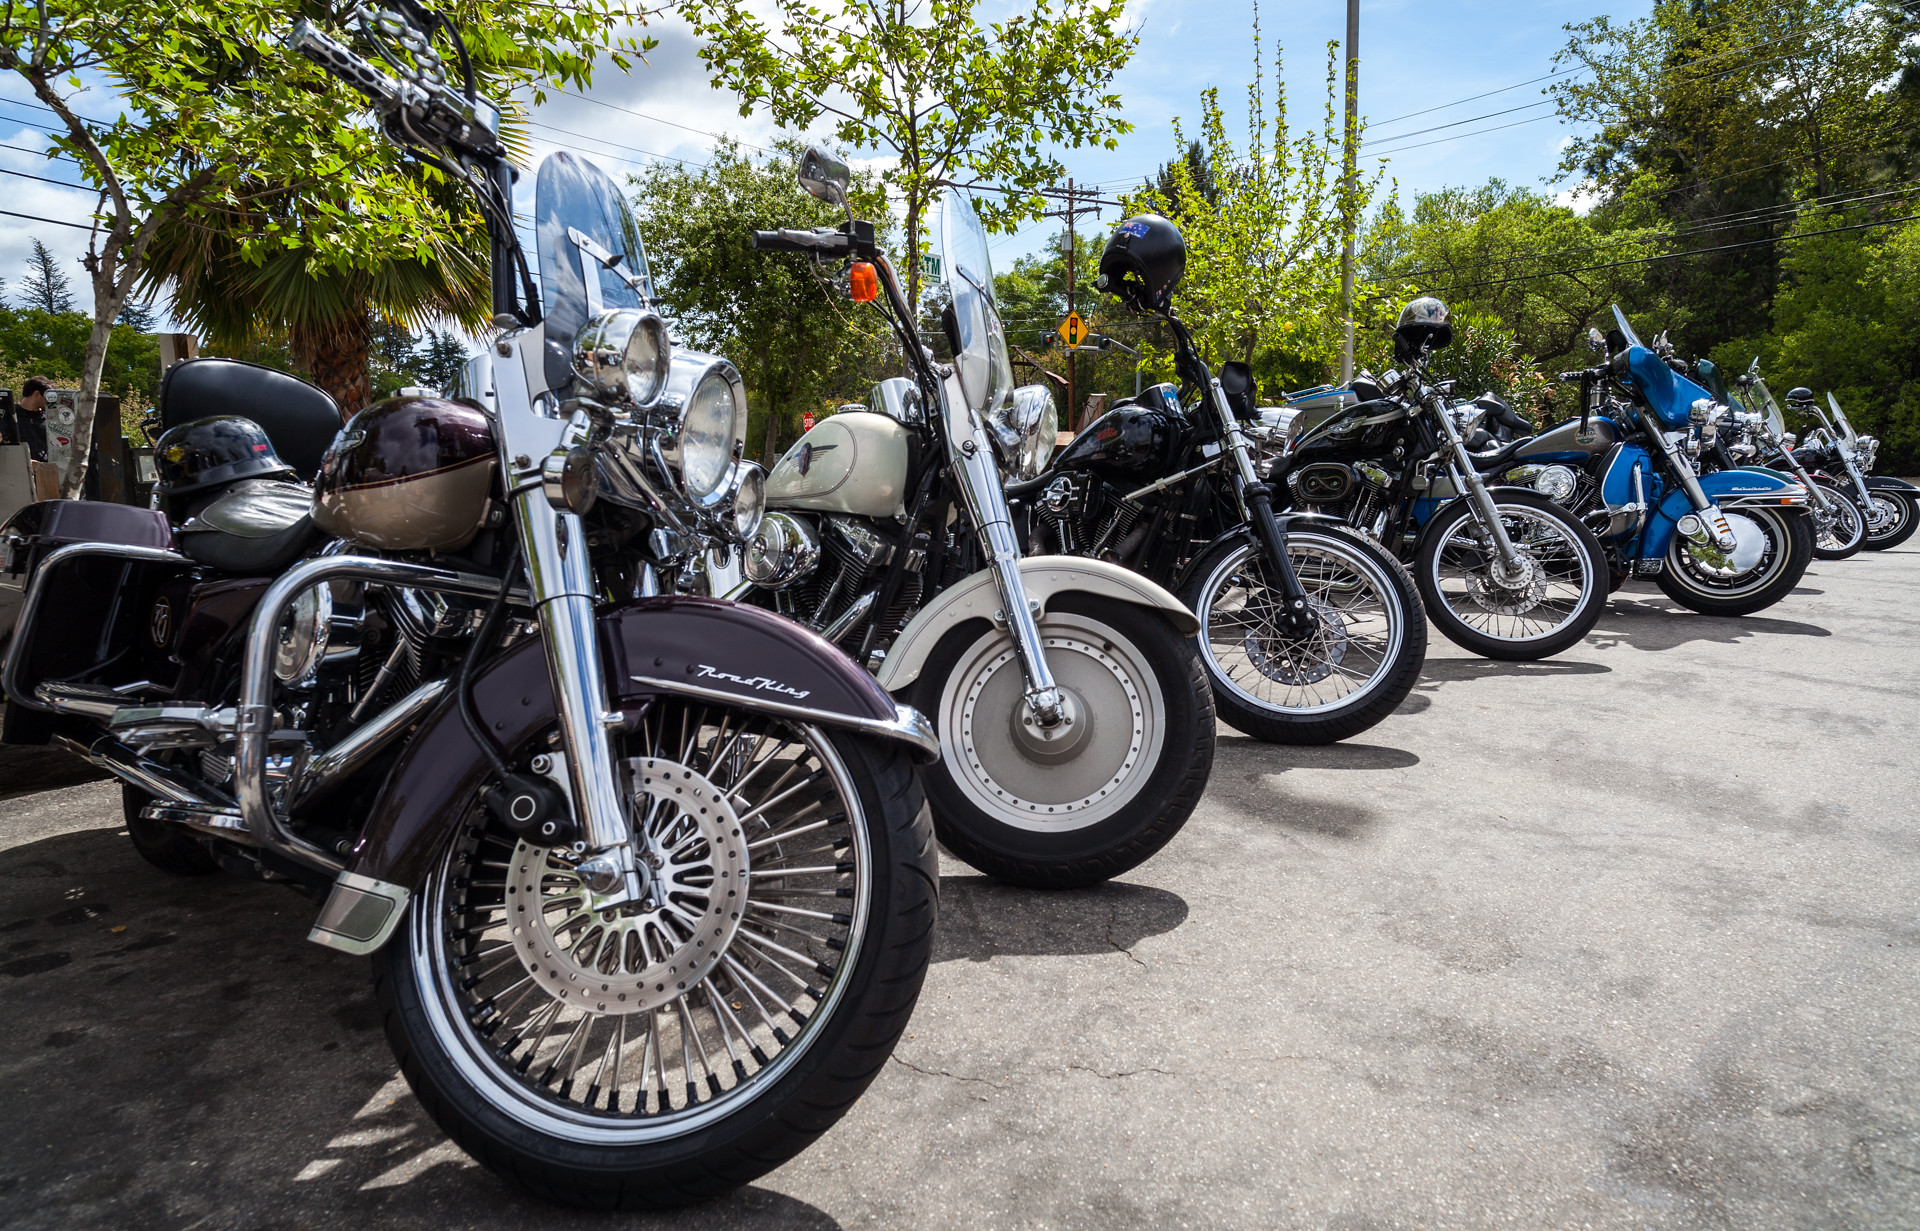motor bike: (57, 38, 926, 1172), (1476, 333, 1816, 634)
